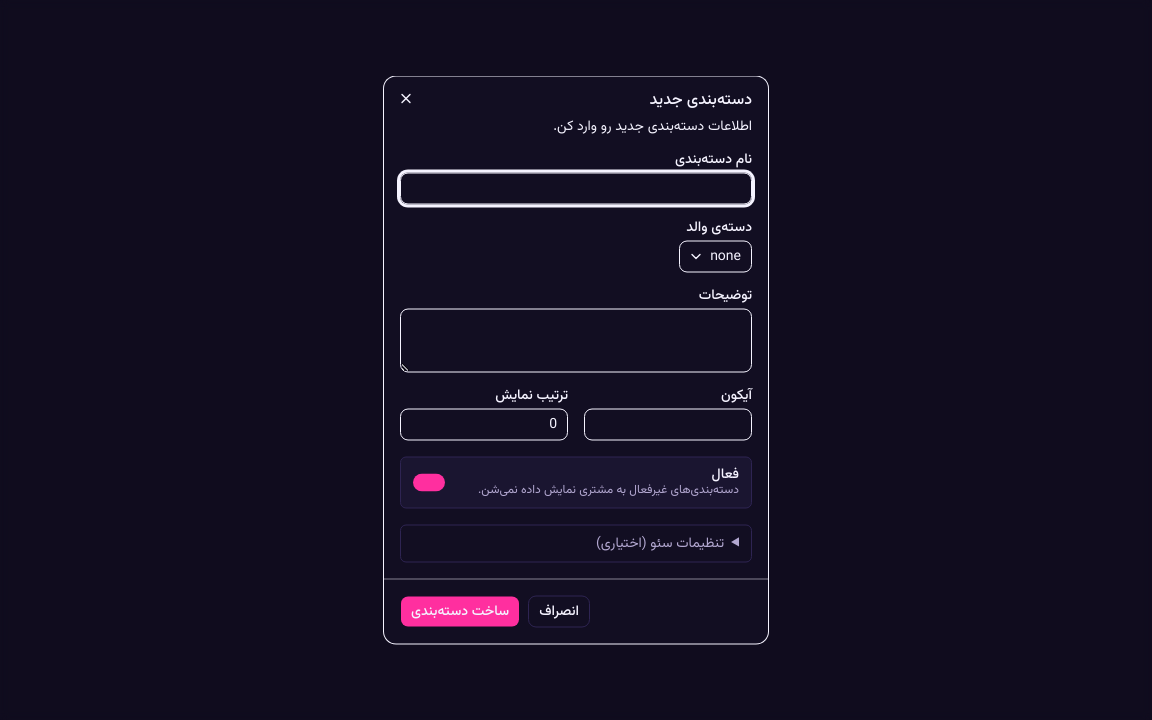
Scenario: CategoryFormDialog › create mode › shows field-level error on 422 validation failure
The width and height of the screenshot is (1152, 720).
Type "برق" into the field labelled "نام دسته‌بندی".
click(576, 188); type("برق")  # box [400,172,752,204]
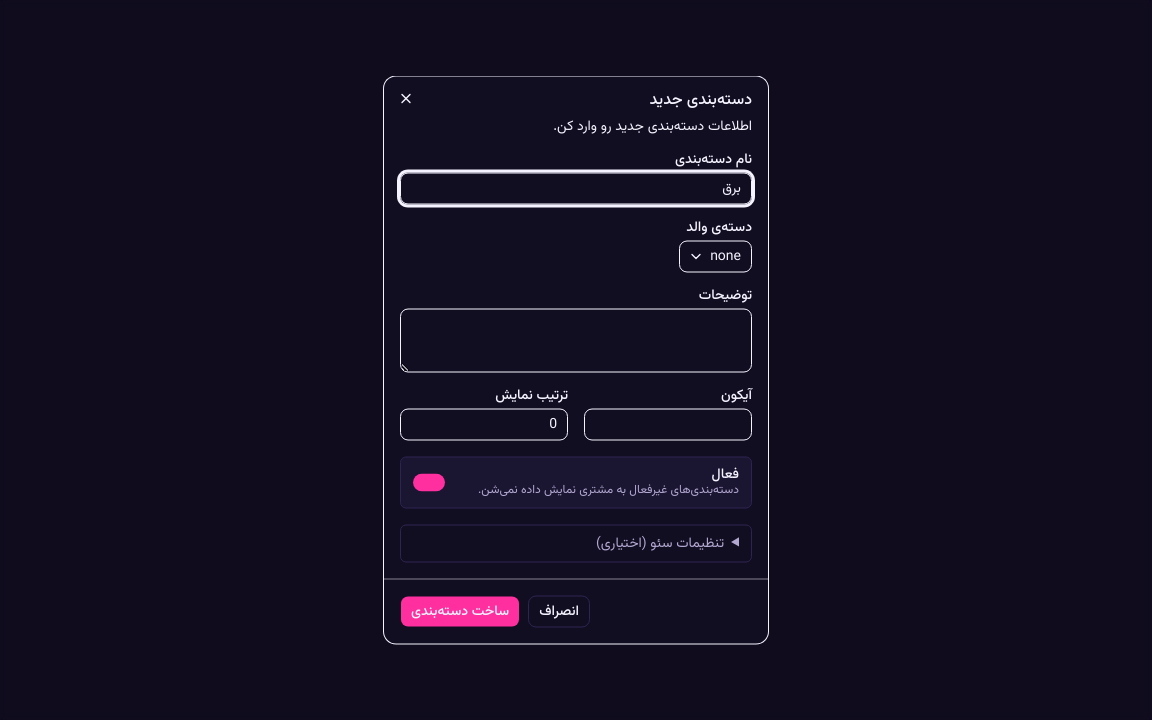
Click the button "ساخت دسته‌بندی".
click(460, 612)  # box [400,596,520,628]
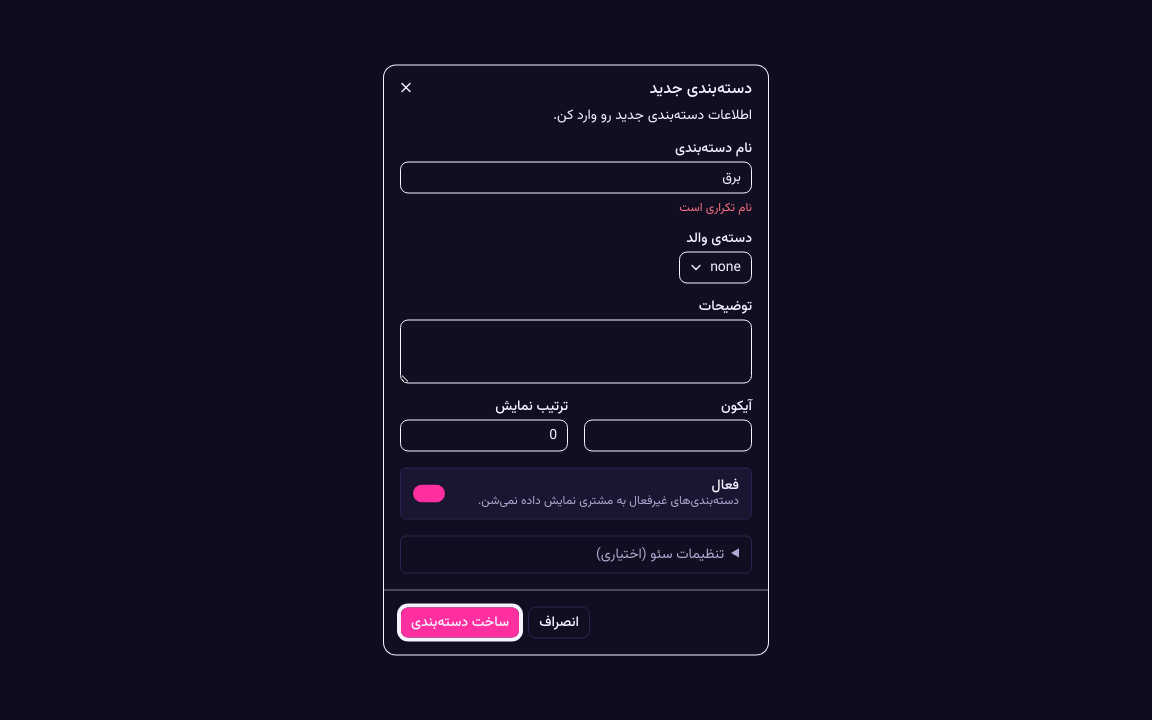
Check: the text "نام تکراری است" is shown, box [679,198,752,216]
